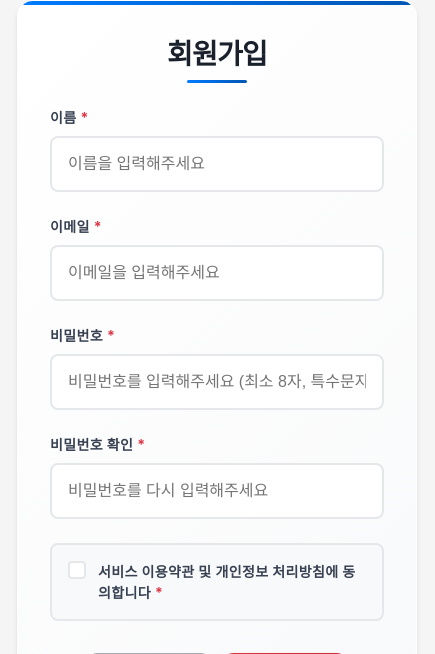
Test: SignUpForm Integration Tests › Form Field Interactions and Validation › should validate terms agreement
Check and uncheck to trigger validation
Click the checkbox labelled "서비스 이용약관 및 개인정보 처리방침에 동의합니다*".
click(77, 570)  # box 68,561 -> 86,579
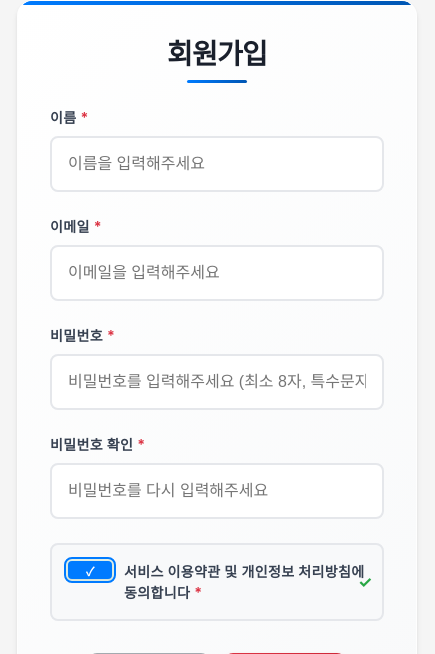
Check: the checkbox labelled "서비스 이용약관 및 개인정보 처리방침에 동의합니다*" is checked
Click the checkbox labelled "서비스 이용약관 및 개인정보 처리방침에 동의합니다*".
click(90, 570)  # box 68,561 -> 112,579
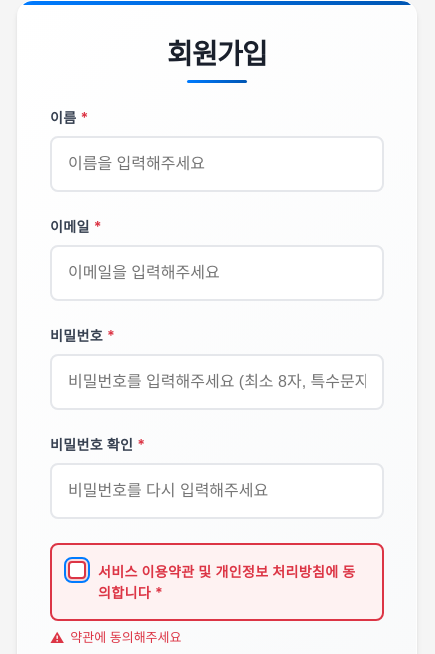
Check: the checkbox labelled "서비스 이용약관 및 개인정보 처리방침에 동의합니다*" is not checked, box 68,561 -> 86,579
Check: the text "약관에 동의해주세요" is shown, box 70,629 -> 182,645
